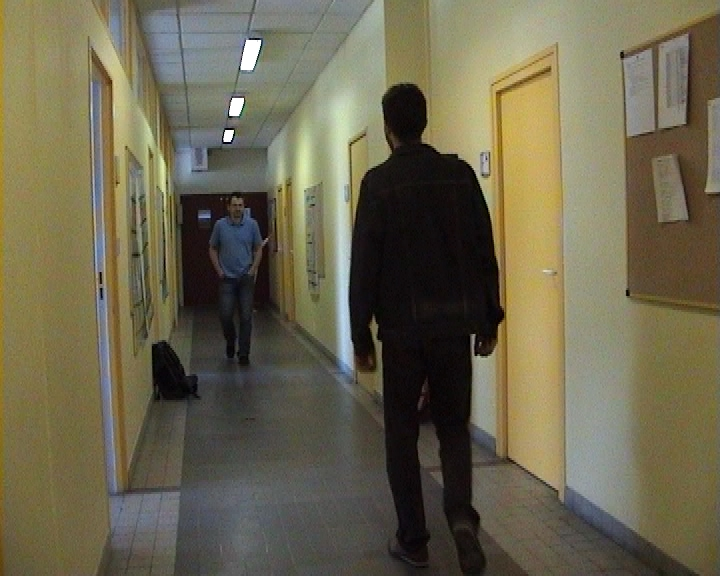leave bag unattended: (134, 322, 212, 425)
